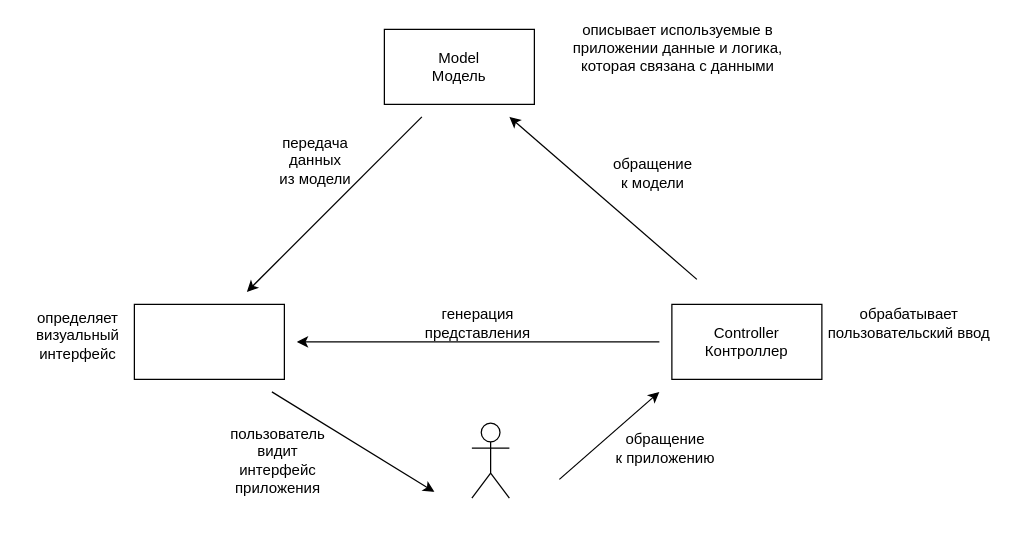
Some shapes in this 1018 by 546 pixel diagram are drawn without their labels. The shapes that lost their labels are listed below. From the top down, each one's centre as x and y in pixels, then its label:
[208,341]: View Представление
[490,460]: Пользователь
